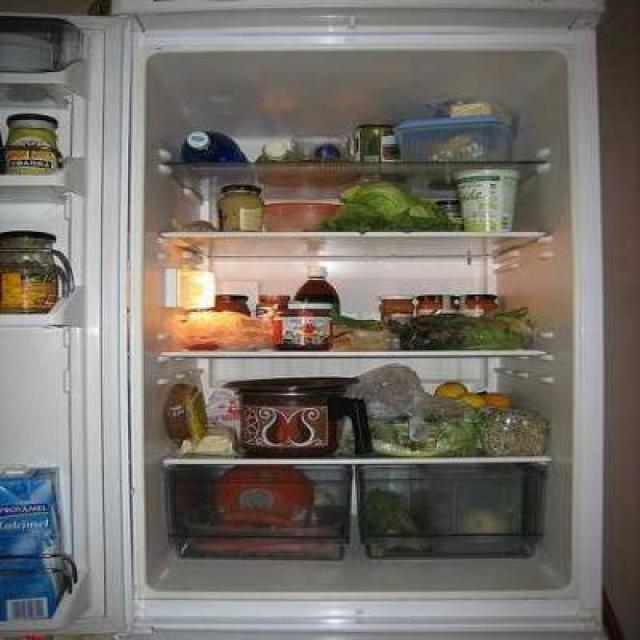refrigerator: (0, 19, 598, 610)
